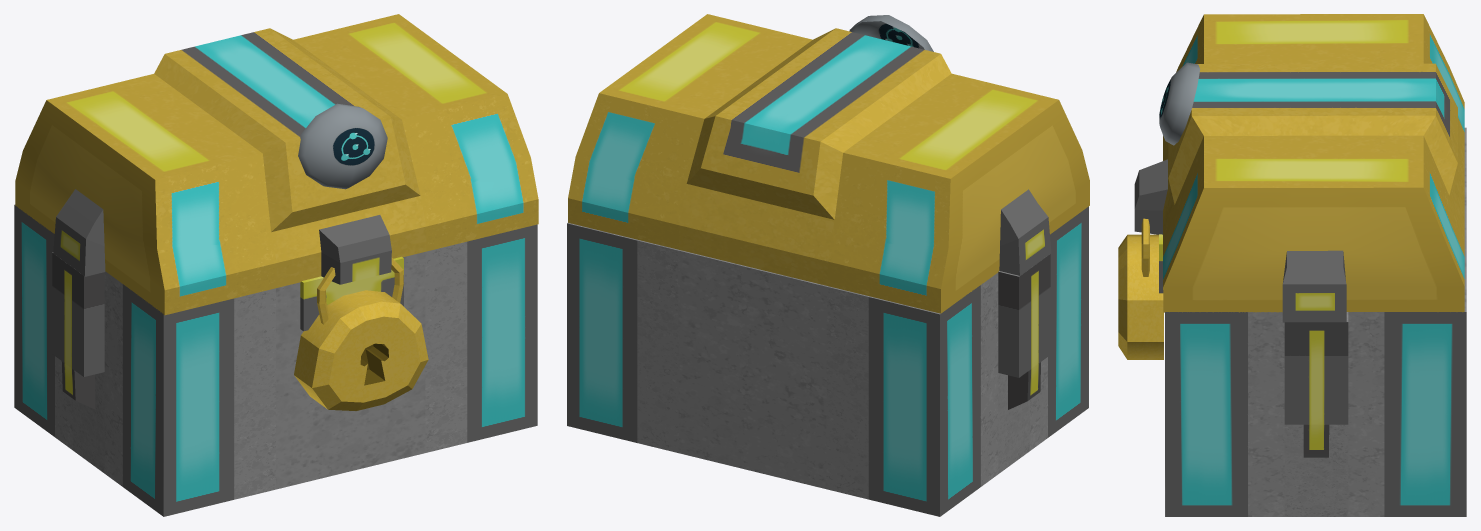
Rendered from ChestTeeth.fbx.
3 renders of one model, left to right at view 1: azimuth 30°, elevation 25°; view 2: azimuth 150°, elevation 25°; view 3: azimuth 270°, elevation 25°, orthographic.
Parts seen in each view (by area): view 1: pCube37, pCube36, pCube5; view 2: pCube37, pCube36; view 3: pCube37, pCube36, pCube5.
Boxes of the visible parts, x1,y1,x2,y2 form: pCube37: (15, 14, 538, 315); pCube36: (14, 204, 537, 516); pCube5: (294, 257, 428, 410); pCube37: (568, 14, 1089, 313); pCube36: (567, 206, 1088, 516); pCube37: (1134, 14, 1464, 322); pCube36: (1159, 127, 1466, 516); pCube5: (1118, 218, 1163, 359).
Bounding box in the file's own units: 1.61 × 1.32 × 1.15.
